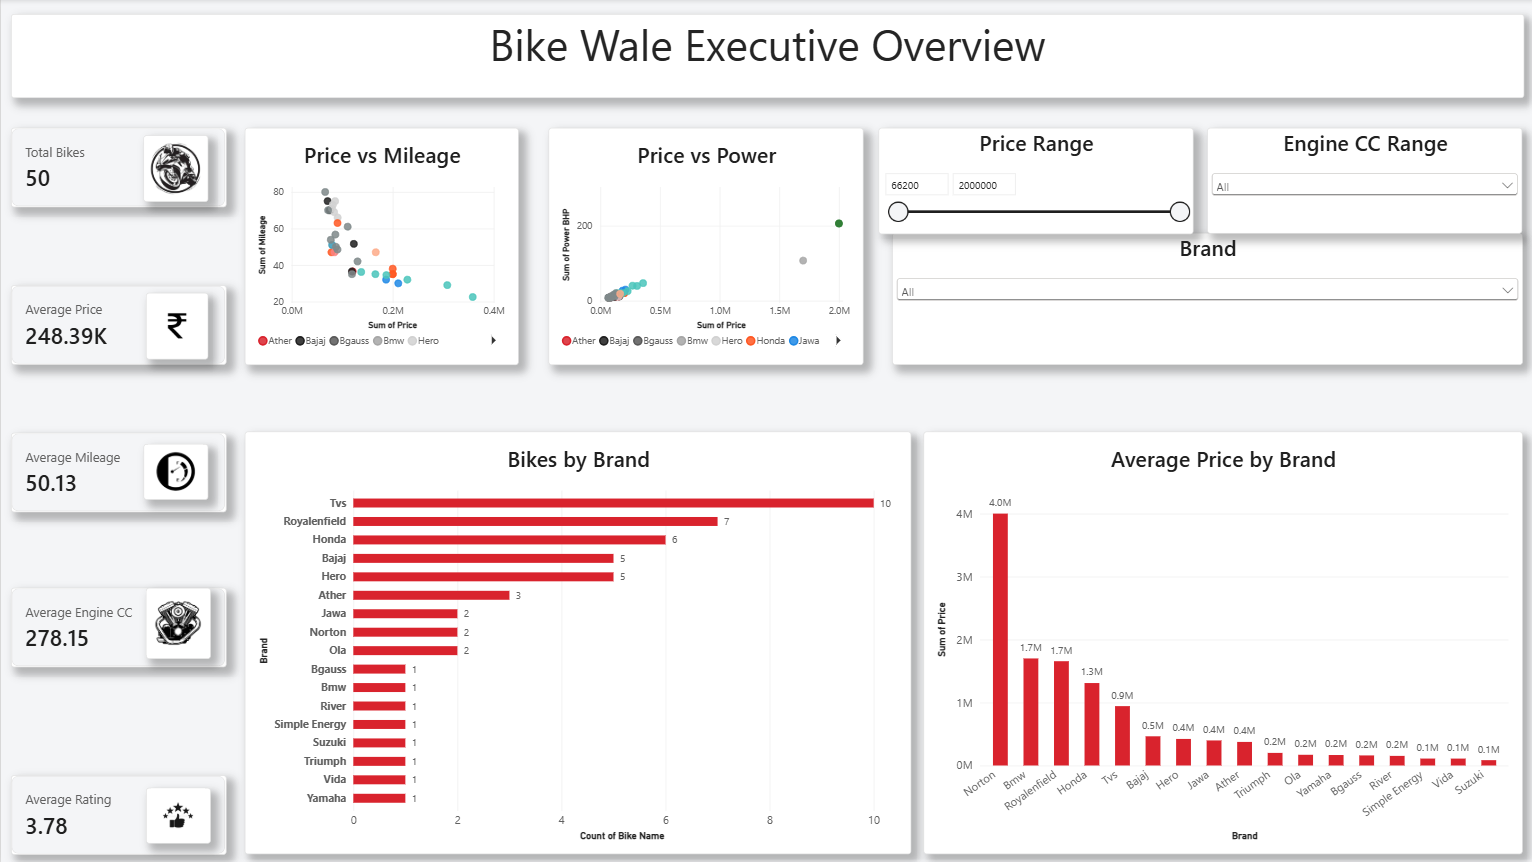

The page's visual inventory and layout, read from the dashboard file:
{"tool":"powerbi","page":{"name":"Page 1","canvas":[1920,1080],"ordinal":0},"visuals":[{"type":"cardVisual","fields":{"Data":["bikewale_cleaned_data.Total Bikes"]},"box":[12.2,160.5,268.6,99.4],"z":0},{"type":"cardVisual","fields":{"Data":["bikewale_cleaned_data.Average Price"]},"box":[12.2,357.6,268.6,99.4],"z":1000},{"type":"cardVisual","fields":{"Data":["bikewale_cleaned_data.Average Rating"]},"box":[12.2,968,268.6,99.4],"z":2000},{"type":"cardVisual","fields":{"Data":["bikewale_cleaned_data.Average Mileage"]},"box":[12.2,540.7,268.6,99.4],"z":3000},{"type":"cardVisual","fields":{"Data":["bikewale_cleaned_data.Average Engine CC"]},"box":[12.2,734.3,268.6,99.4],"z":4000},{"type":"clusteredBarChart","title":"Bikes by Brand","fields":{"Category":["bikewale_cleaned_data.Brand"],"Y":["CountNonNull(bikewale_cleaned_data.Bike Name)"]},"box":[304.6,539.3,831.6,526.9],"z":5000},{"type":"clusteredColumnChart","title":"Average Price by Brand","fields":{"Category":["bikewale_cleaned_data.Brand"],"Y":["Sum(bikewale_cleaned_data.Price)"]},"box":[1150.6,539.3,747.2,526.9],"z":6000},{"type":"scatterChart","title":"Price vs Mileage","fields":{"Category":["bikewale_cleaned_data.Bike Name"],"Series":["bikewale_cleaned_data.Brand"],"X":["Sum(bikewale_cleaned_data.Price)"],"Y":["Sum(bikewale_cleaned_data.Mileage)"]},"box":[304.6,160.5,341.7,296.4],"z":6001},{"type":"scatterChart","title":"Price vs Power","fields":{"Category":["bikewale_cleaned_data.Bike Name"],"Series":["bikewale_cleaned_data.Brand"],"X":["Sum(bikewale_cleaned_data.Price)"],"Y":["Sum(bikewale_cleaned_data.Power BHP)"]},"box":[683.4,160.5,393.1,296.4],"z":6002},{"type":"slicer","title":"Brand","fields":{"Values":["bikewale_cleaned_data.Brand"]},"box":[1111.5,292.3,786.3,164.7],"z":6006},{"type":"slicer","title":"Price Range","fields":{"Values":["bikewale_cleaned_data.Price"]},"box":[1095,160.5,392.4,132.6],"z":6007},{"type":"slicer","title":"Engine CC Range","fields":{"Values":["bikewale_cleaned_data.Engine CC"]},"box":[1504.6,160.5,393.1,131.7],"z":6008},{"type":"textbox","box":[12.2,19.2,1887.2,104.7],"z":6009},{"type":"image","box":[177.5,169.2,80.4,83.2],"z":6010},{"type":"image","box":[180.2,366,77.6,83.2],"z":6011},{"type":"image","box":[177.5,554.6,80.4,69.3],"z":6012},{"type":"image","box":[180.2,734.8,80.4,88.7],"z":6013},{"type":"image","box":[180.2,984.4,80.4,69.3],"z":6014}]}

Visuals, with their boxes in screenshot pixels (x1, y1, x2, y2), scaled from the page's 1920x1080 canvas onto the 1532x862 screenshot:
cardVisual - bikewale_cleaned_data.Total Bikes: bbox=(10, 128, 224, 207)
cardVisual - bikewale_cleaned_data.Average Price: bbox=(10, 285, 224, 365)
cardVisual - bikewale_cleaned_data.Average Rating: bbox=(10, 773, 224, 852)
cardVisual - bikewale_cleaned_data.Average Mileage: bbox=(10, 432, 224, 511)
cardVisual - bikewale_cleaned_data.Average Engine CC: bbox=(10, 586, 224, 665)
"Bikes by Brand" clusteredBarChart: bbox=(243, 430, 907, 851)
"Average Price by Brand" clusteredColumnChart: bbox=(918, 430, 1514, 851)
"Price vs Mileage" scatterChart: bbox=(243, 128, 516, 365)
"Price vs Power" scatterChart: bbox=(545, 128, 859, 365)
"Brand" slicer: bbox=(887, 233, 1514, 365)
"Price Range" slicer: bbox=(874, 128, 1187, 234)
"Engine CC Range" slicer: bbox=(1201, 128, 1514, 233)
textbox: bbox=(10, 15, 1516, 99)
image: bbox=(142, 135, 206, 201)
image: bbox=(144, 292, 206, 359)
image: bbox=(142, 443, 206, 498)
image: bbox=(144, 586, 208, 657)
image: bbox=(144, 786, 208, 841)
